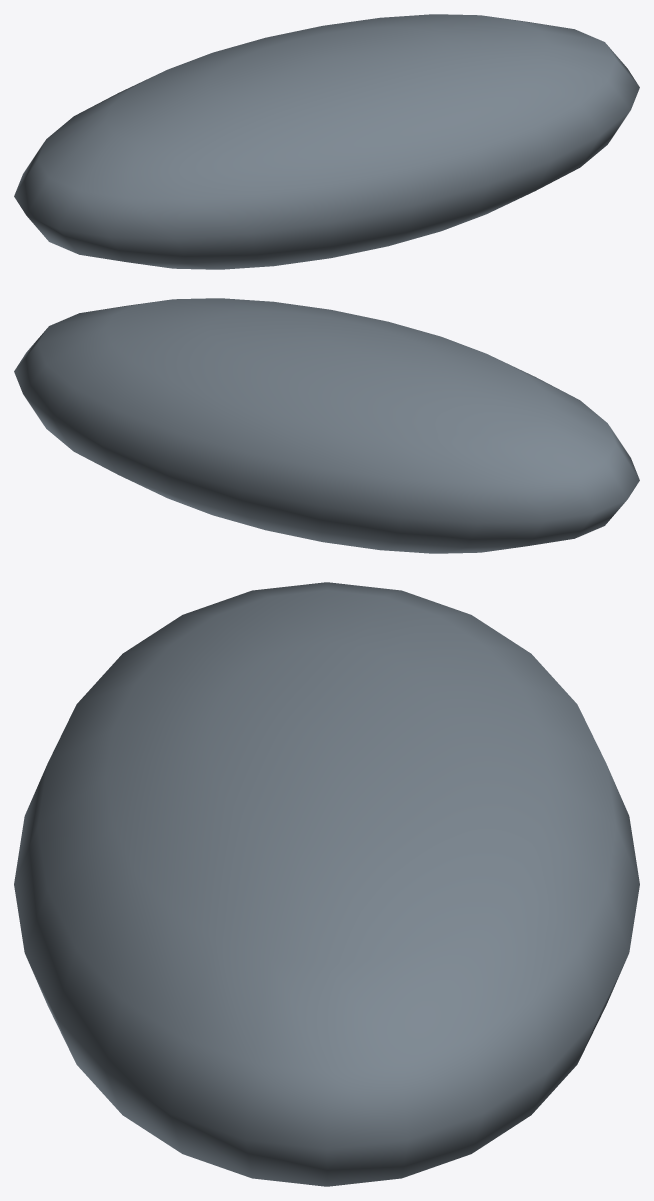
Rendered from SM_FE_Hill1.fbx.
The picture shows the model from 3 angles, top to bottom: view 1: azimuth 30°, elevation 25°; view 2: azimuth 150°, elevation 25°; view 3: azimuth 270°, elevation 25°; orthographic projection. The views are drawn at different scales.
Parts seen in each view (by area): view 1: SM_FE_Hill1; view 2: SM_FE_Hill1; view 3: SM_FE_Hill1.
Part boxes in pixels (left/top/right/bottom): SM_FE_Hill1: left=14, top=14, right=639, bottom=269; SM_FE_Hill1: left=14, top=298, right=639, bottom=553; SM_FE_Hill1: left=14, top=582, right=639, bottom=1186.
Size of the model in its own units: 6000 by 3000 by 1600.
